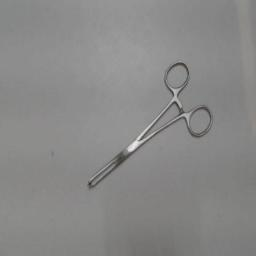Allis Tissue Forceps: (82, 52, 222, 194)
